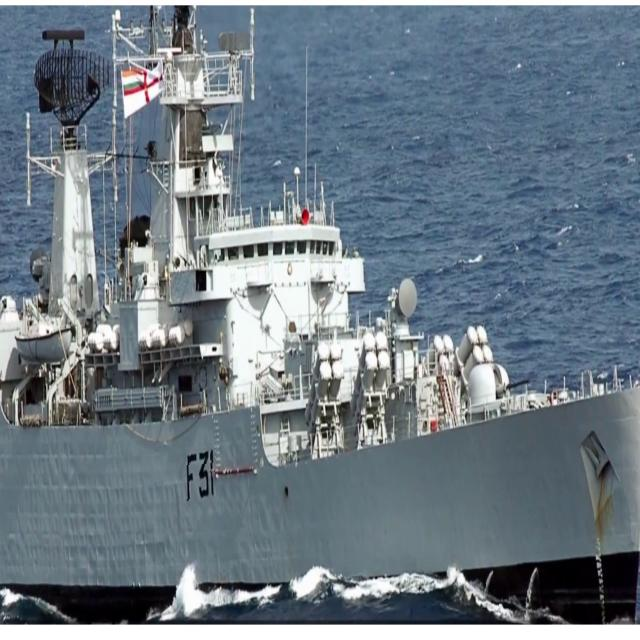OCR: (184, 448, 216, 507)
